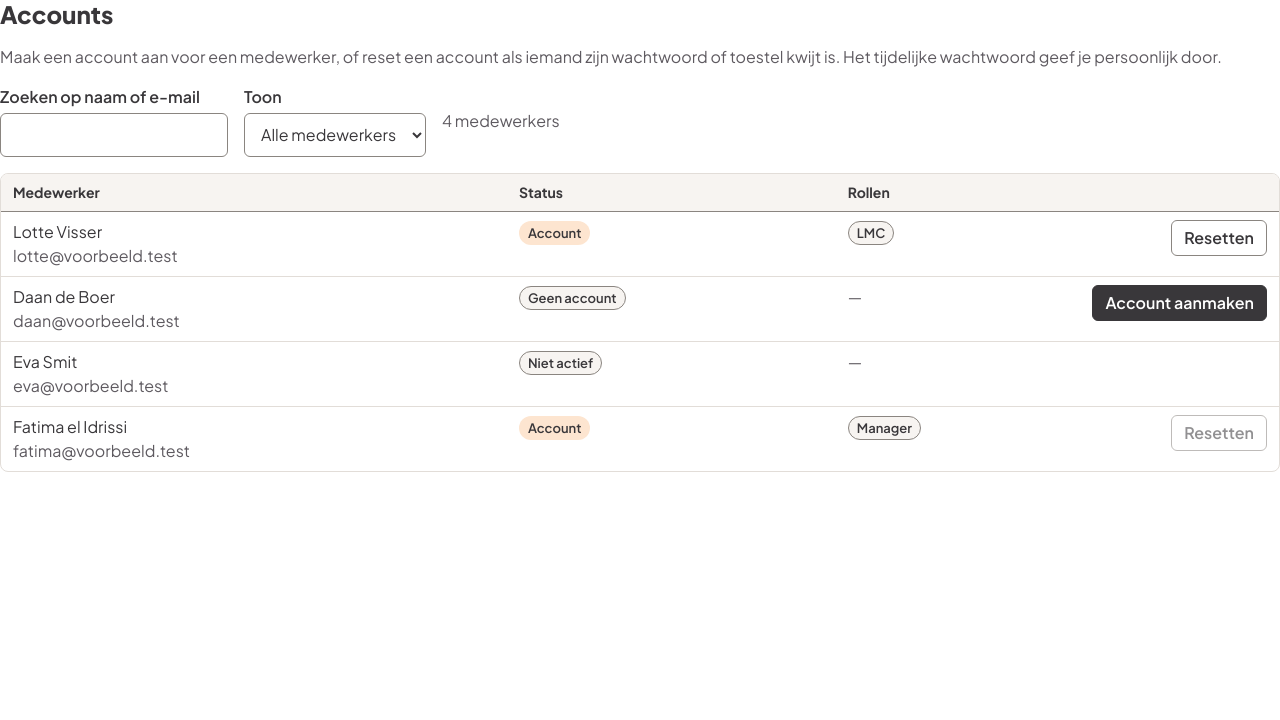
Test case: Accounts: aanmaken en wachtwoordstap › kopiëren zonder klembord: tekst wordt geselecteerd met uitleg
Expected: the table is shown, [1, 174, 1279, 471]
Click the button with aria-label "Account aanmaken voor Daan de Boer" at [1180, 303], box [1092, 285, 1267, 321]
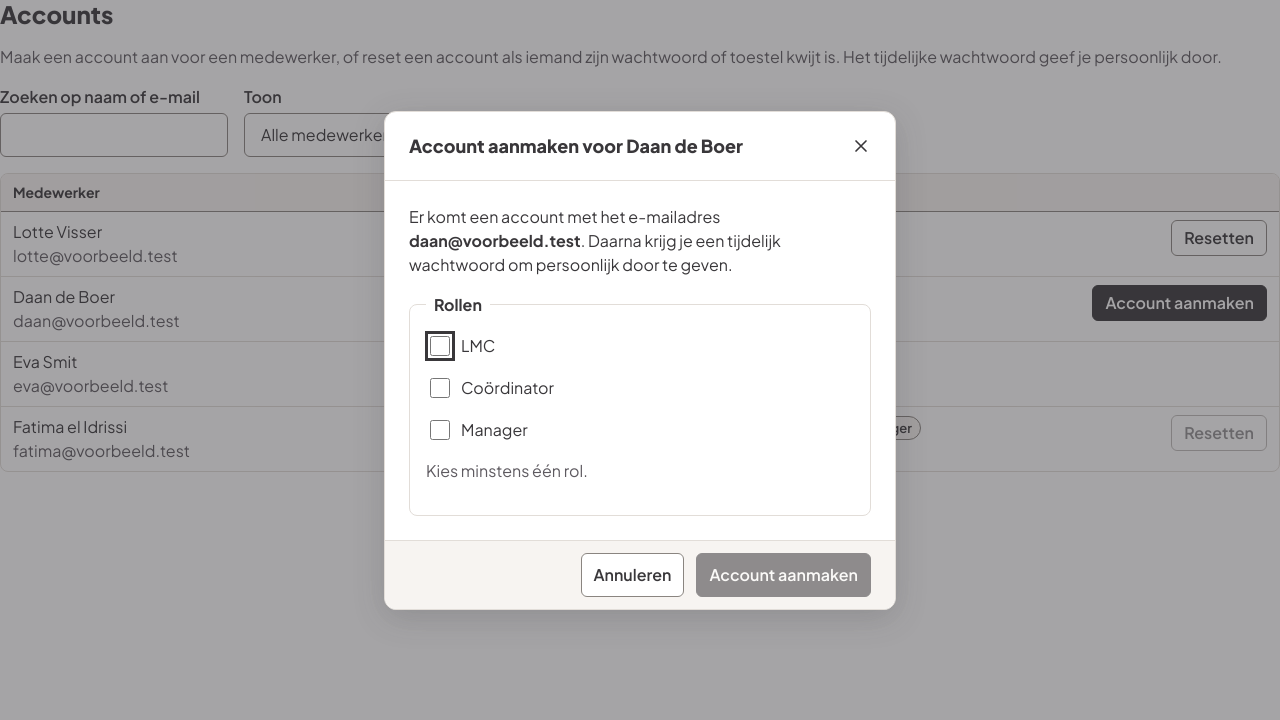
Click the checkbox labelled "LMC" at [440, 346], box [430, 336, 450, 356]
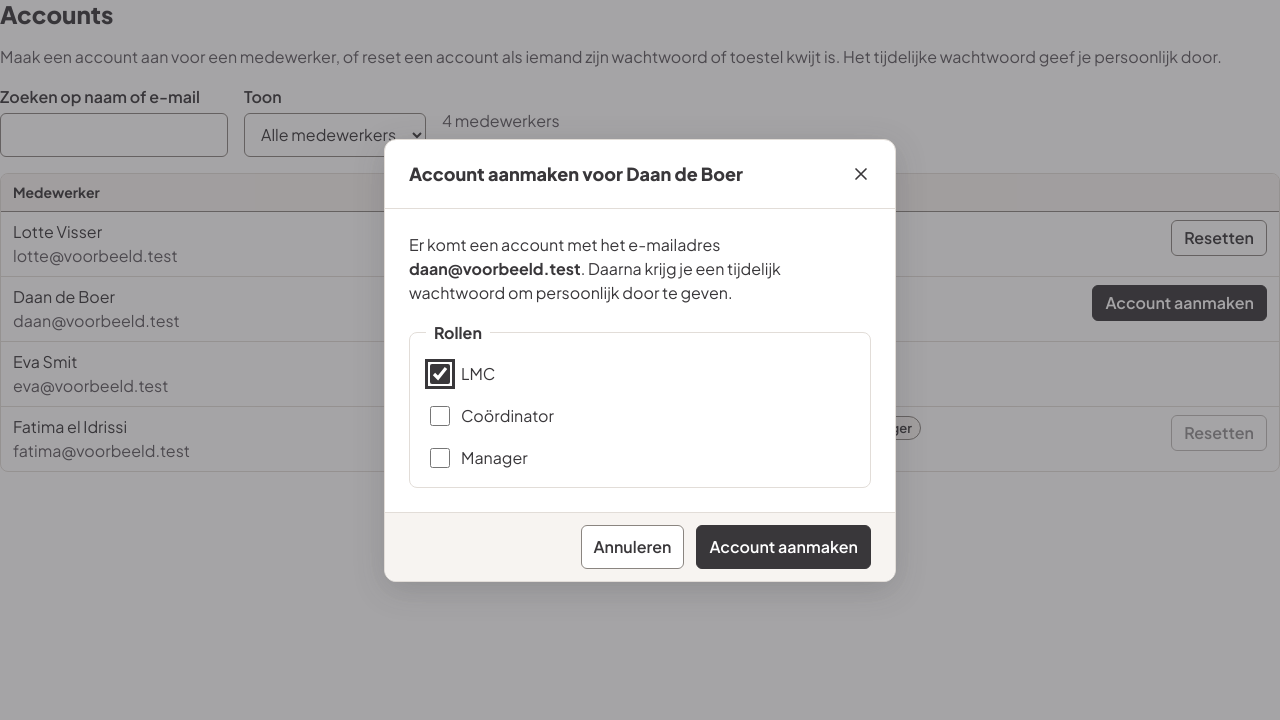
Click the button "Account aanmaken" at [784, 546], box [696, 524, 871, 568]
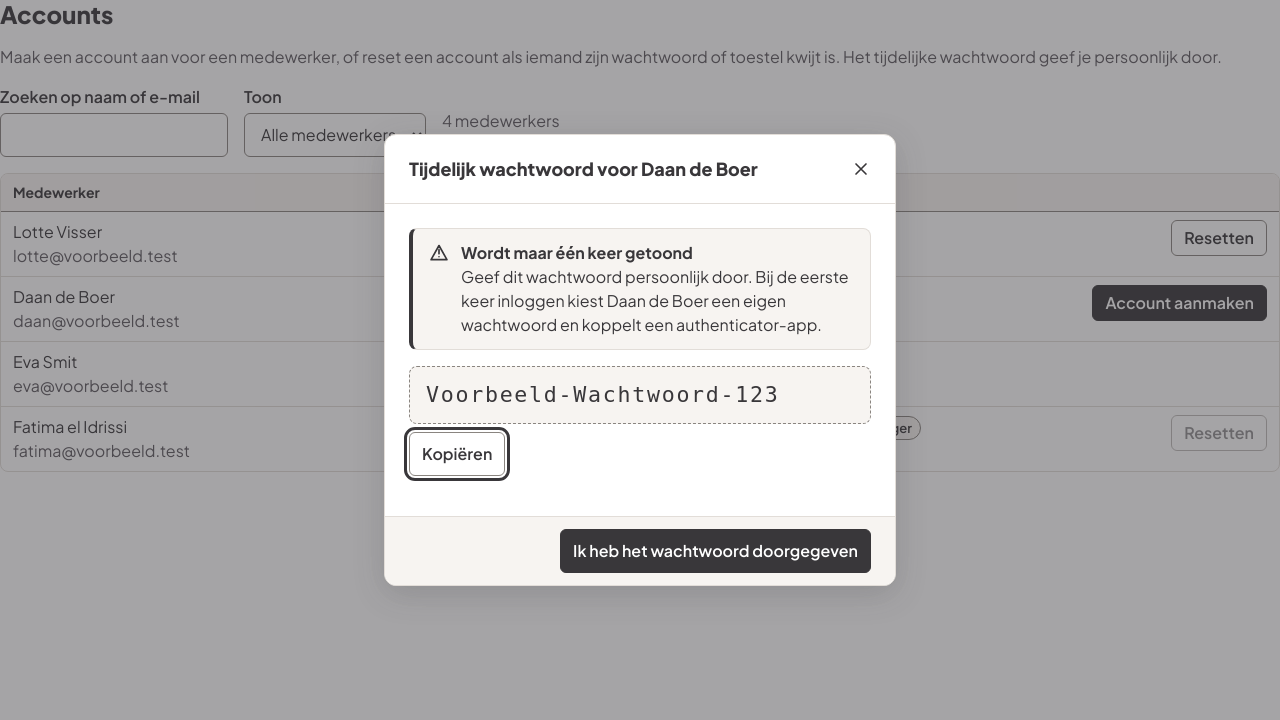
Click the button "Kopiëren" at [457, 454], box [409, 432, 505, 476]
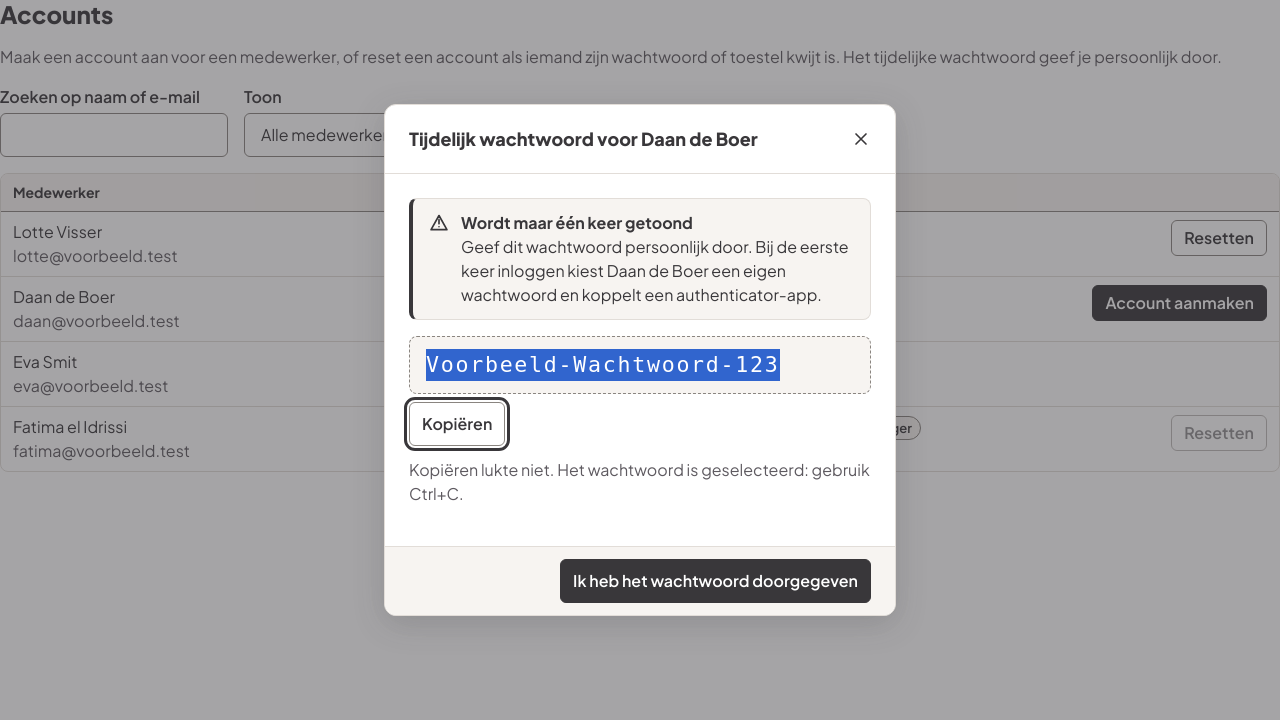
Result: the text "Voorbeeld-Wachtwoord-123" is shown at [426, 352, 780, 377]
Result: the text "Kopiëren lukte niet. Het wachtwoord is geselecteerd: gebruik Ctrl+C." is shown at [409, 458, 871, 506]
